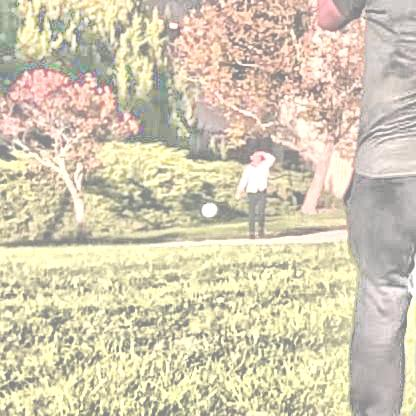golfball: (197, 198, 216, 215)
